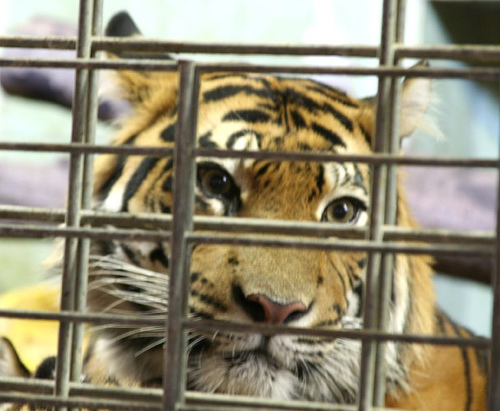Tigre: (71, 31, 432, 400)
